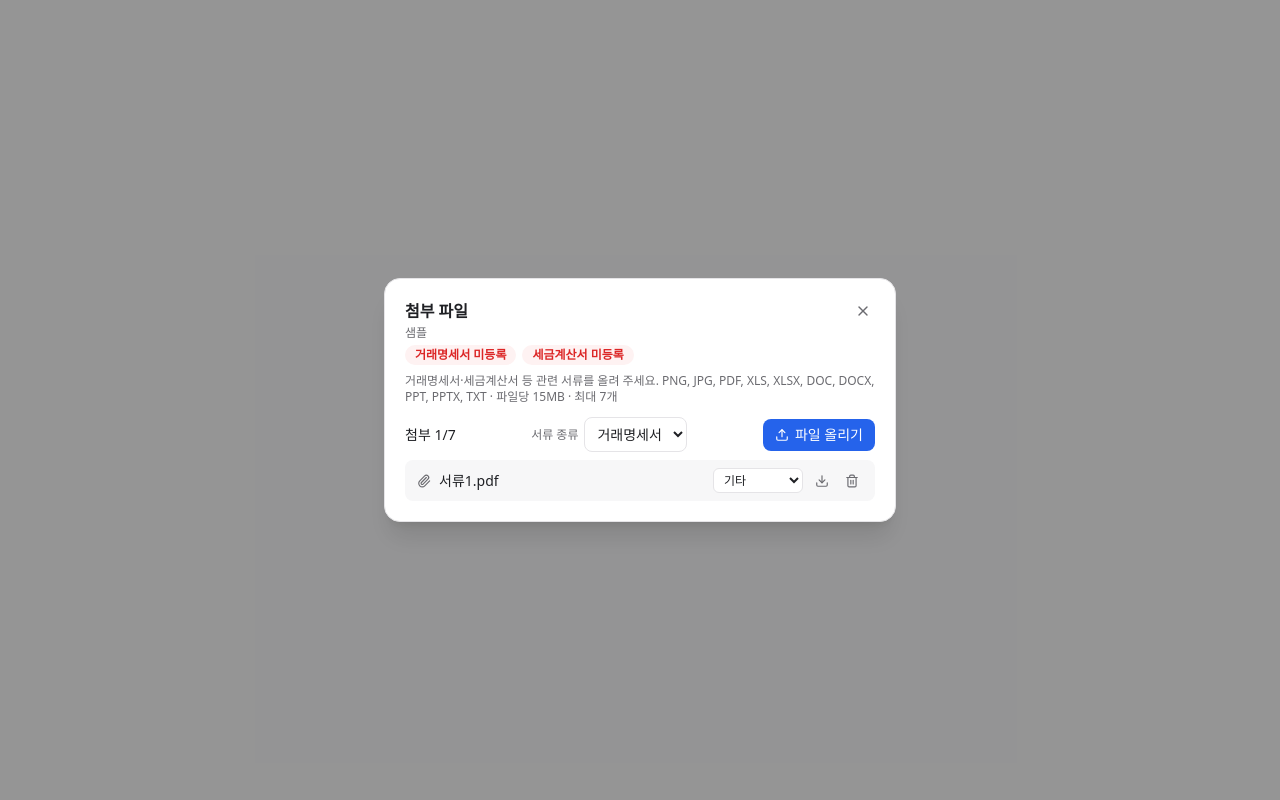
Test: 첨부 파일 팝업 › 열지 못하면 이유를 알린다
Click the button with aria-label "서류1.pdf 열기".
click(469, 480)  # box x1=439 y1=470 x2=705 y2=490
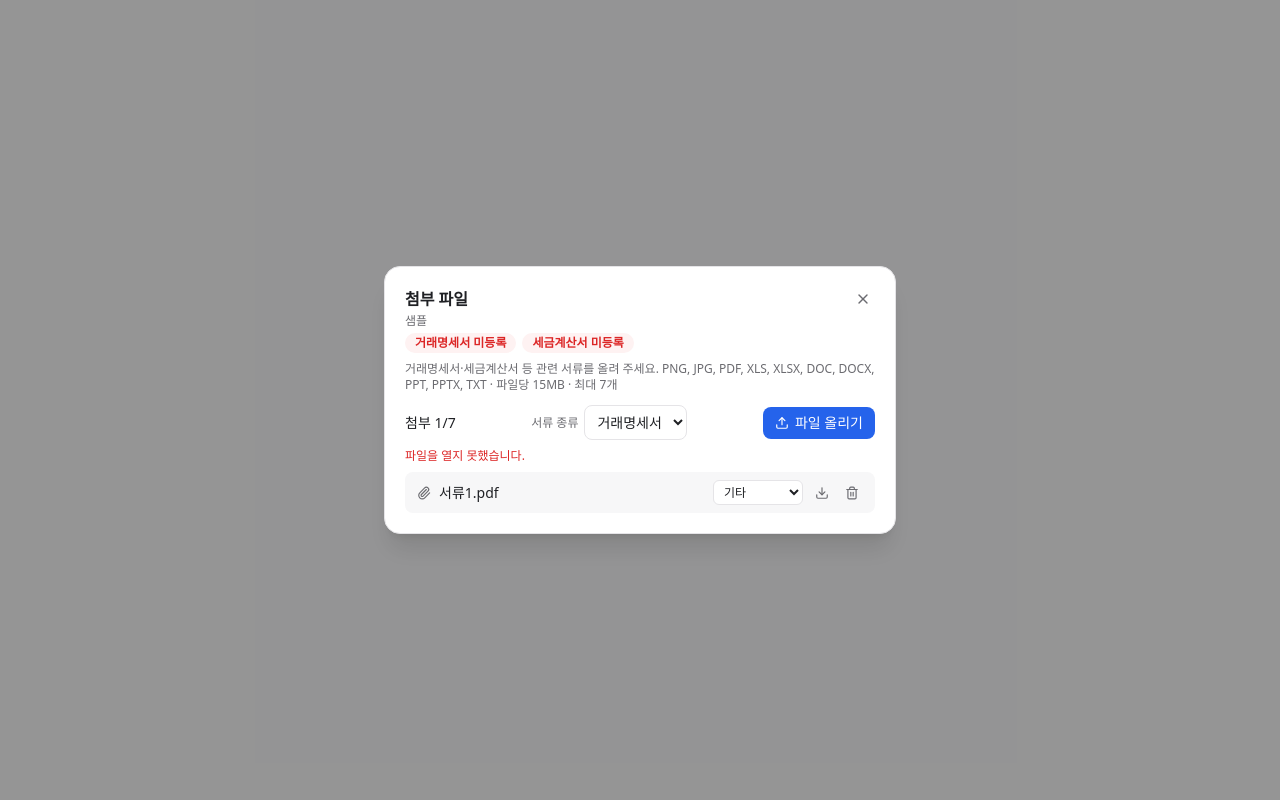
Expected: the message reads "파일을 열지 못했습니다.", x1=405 y1=447 x2=525 y2=464
